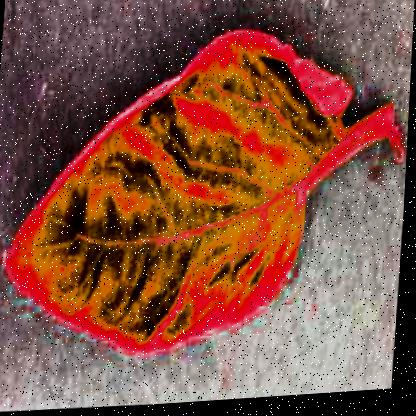Virus: (0, 13, 414, 375)
